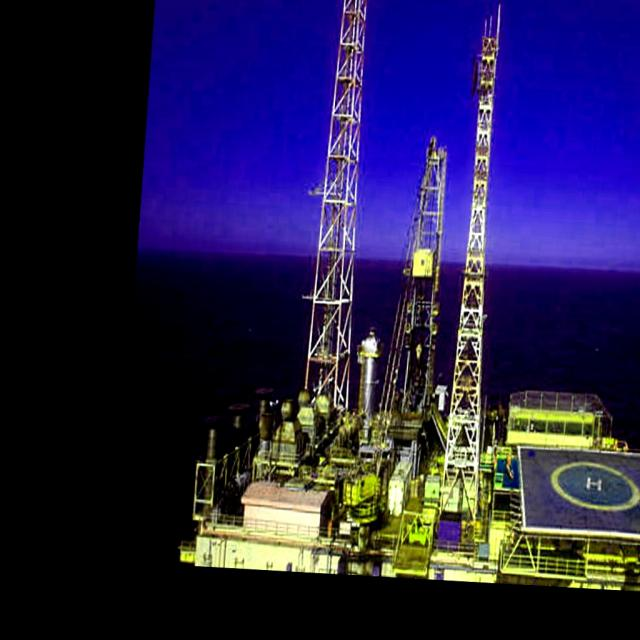helipad: (546, 458, 640, 514)
